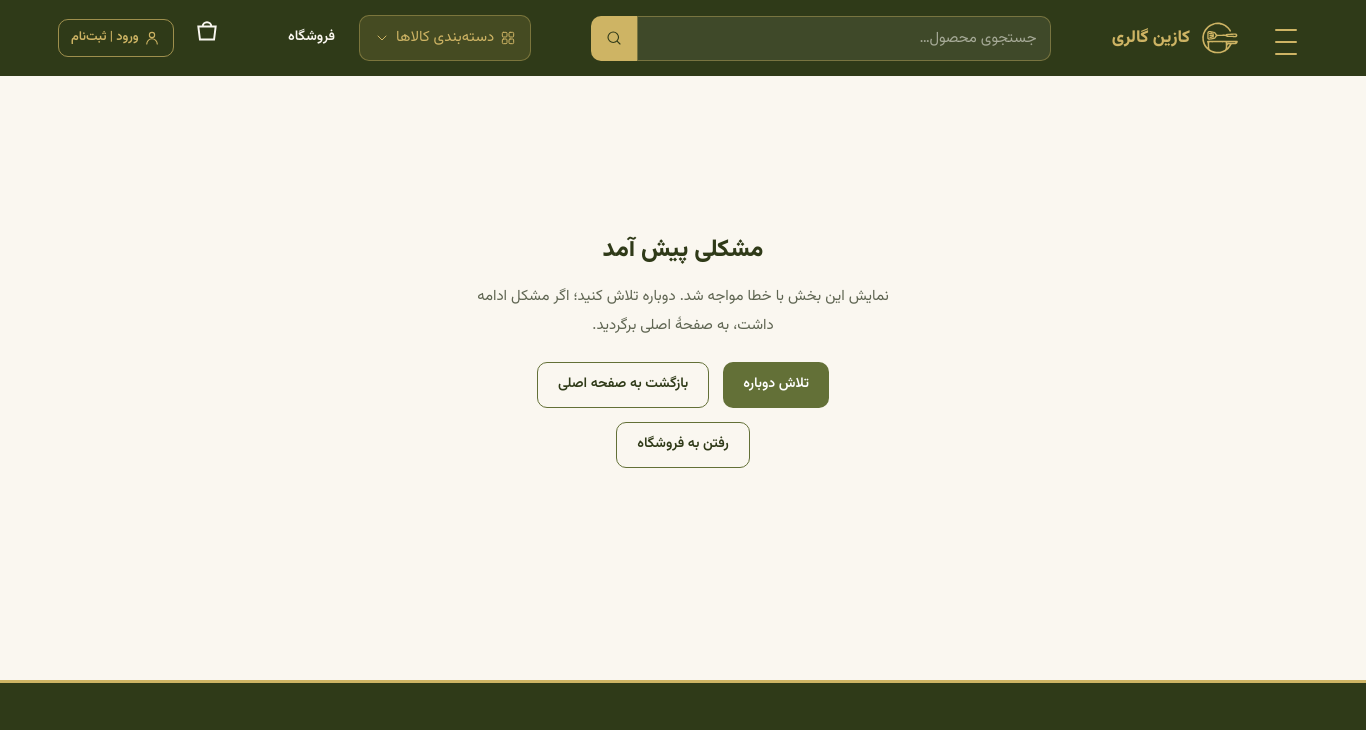
Test: route error recovery navigation › resets the route boundary after navigating with the header logo
The width and height of the screenshot is (1366, 730).
Expected: the heading "مشکلی پیش آمد" is shown, [603,231,763,269]
Click the link with aria-label "کازین گالری — صفحه اصلی" at (1177,38), box [1112,16,1242,60]
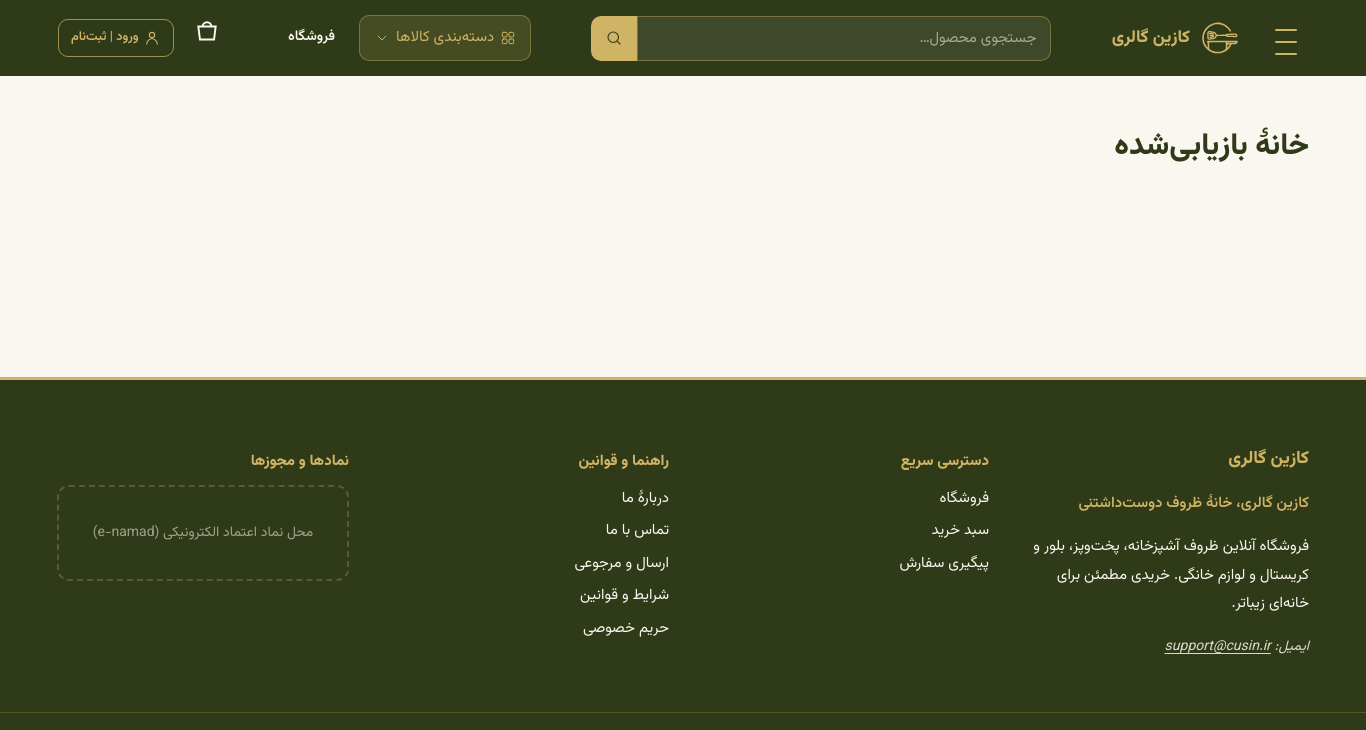
Now the heading "خانهٔ بازیابی‌شده" is shown, box [1114,123,1309,170]
Now the heading "مشکلی پیش آمد" is gone
